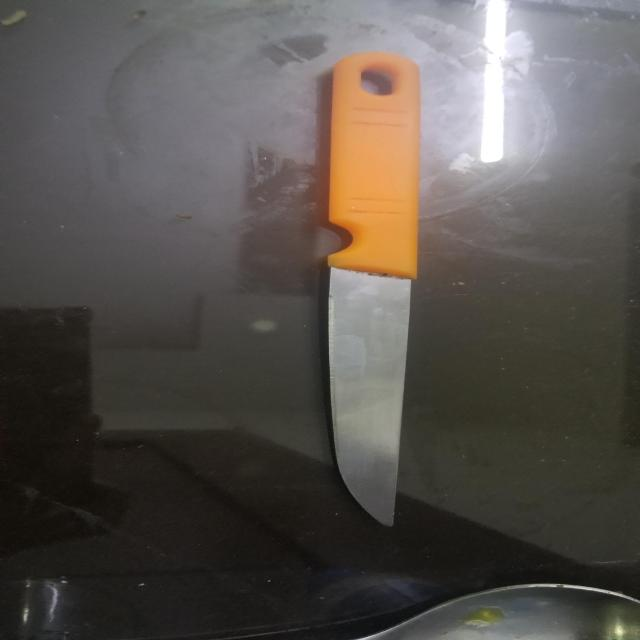Knife: (324, 52, 425, 526)
